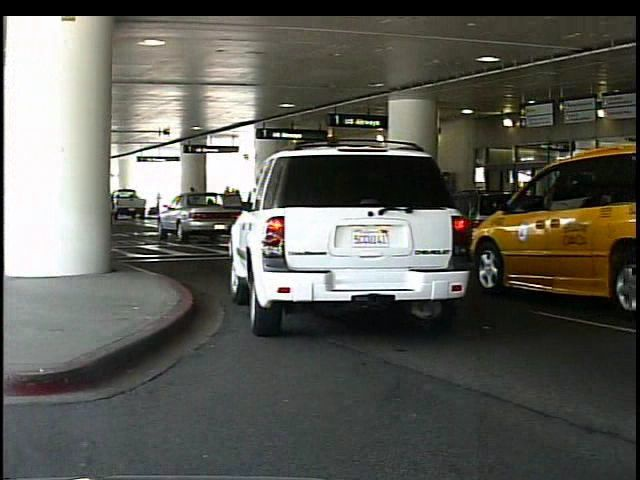person: (545, 174, 574, 260), (157, 188, 165, 215)
